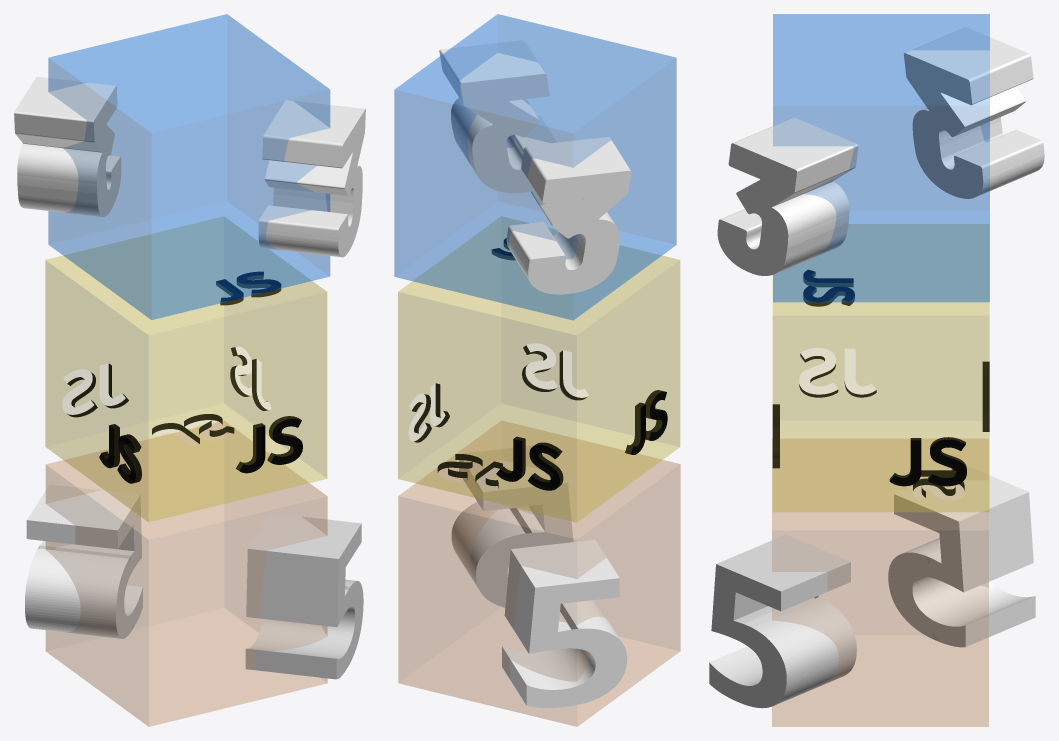
Rendered from fullstack.gltf.
3 renders of one model, left to right at view 1: azimuth 30°, elevation 25°; view 2: azimuth 150°, elevation 25°; view 3: azimuth 270°, elevation 25°, orthographic. The views are drawn at different scales.
Visible parts, largest first — view 1: Cube.004, Cube.006, Cube.005, Text.002, Text.001, Text, Text.003; view 2: Cube.004, Cube.006, Cube.005, Text.001, Text.003, Text, Text.002; view 3: Cube.004, Cube.006, Cube.005, Text.002, Text.001, Text.003, Text.
Part boxes in pixels (x1=…): Cube.004: x1=45, y1=216, x2=326, y2=521; Cube.006: x1=48, y1=14, x2=329, y2=319; Cube.005: x1=46, y1=421, x2=327, y2=726; Text.002: x1=245, y1=513, x2=363, y2=679; Text.001: x1=25, y1=484, x2=142, y2=638; Text: x1=258, y1=100, x2=365, y2=257; Text.003: x1=14, y1=76, x2=121, y2=217; Cube.004: x1=398, y1=216, x2=679, y2=522; Cube.006: x1=394, y1=14, x2=676, y2=320; Cube.005: x1=398, y1=421, x2=680, y2=726; Text.001: x1=502, y1=539, x2=627, y2=707; Text.003: x1=506, y1=137, x2=631, y2=294; Text: x1=439, y1=40, x2=556, y2=193; Text.002: x1=451, y1=445, x2=573, y2=607; Cube.004: x1=772, y1=224, x2=989, y2=511; Cube.006: x1=773, y1=14, x2=989, y2=301; Cube.005: x1=772, y1=439, x2=988, y2=726; Text.002: x1=709, y1=534, x2=856, y2=708; Text.001: x1=888, y1=466, x2=1035, y2=647; Text.003: x1=903, y1=27, x2=1044, y2=198; Text: x1=717, y1=117, x2=858, y2=275.
Size of the model in its own units: 3.04 by 6.34 by 3.09.
